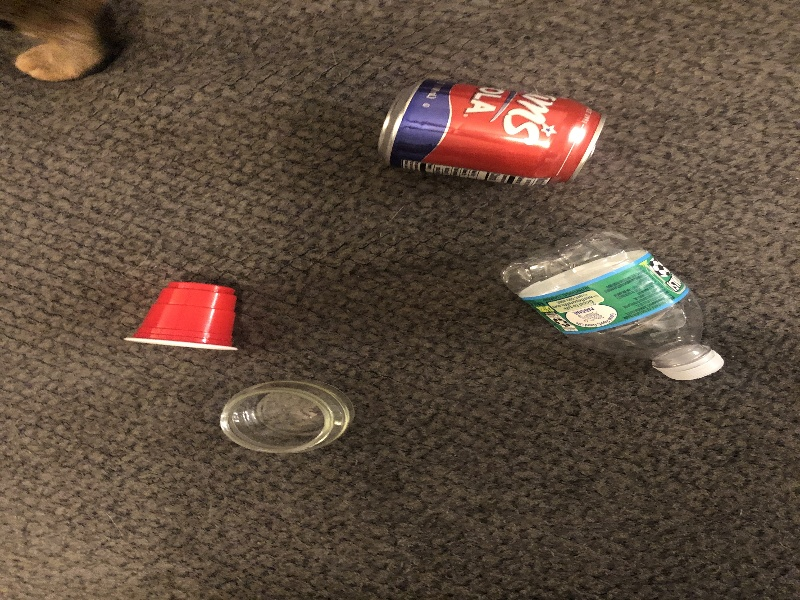glass: (215, 374, 357, 457)
metal: (362, 72, 605, 193)
plastic: (493, 232, 729, 389), (119, 277, 256, 359)
